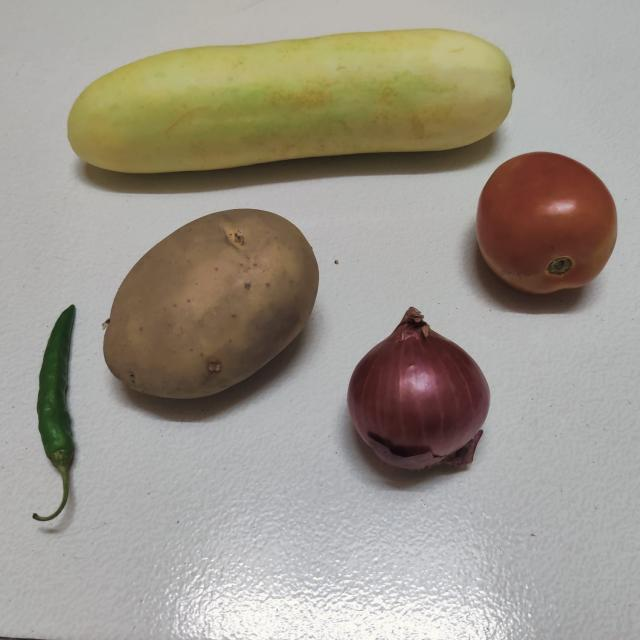Organik: (29, 26, 521, 178), (96, 203, 330, 420), (329, 283, 491, 494), (471, 142, 640, 301), (17, 292, 86, 556)
